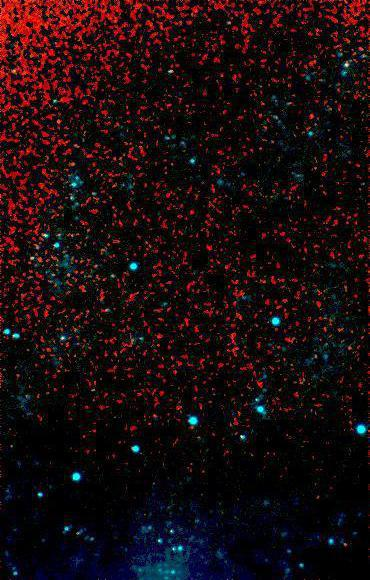star: (46, 109, 76, 139)
